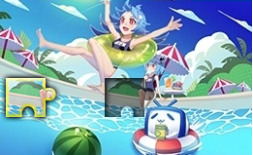gap: (105, 78, 143, 116)
